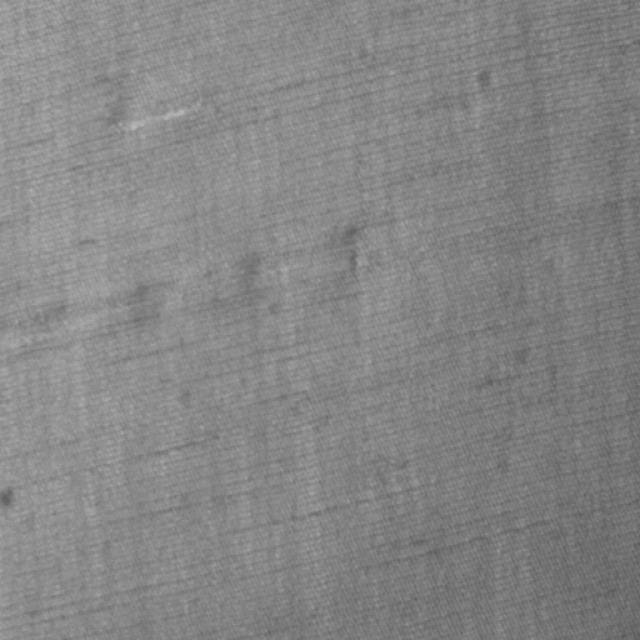thread error: (0, 212, 364, 364), (106, 88, 208, 136)
